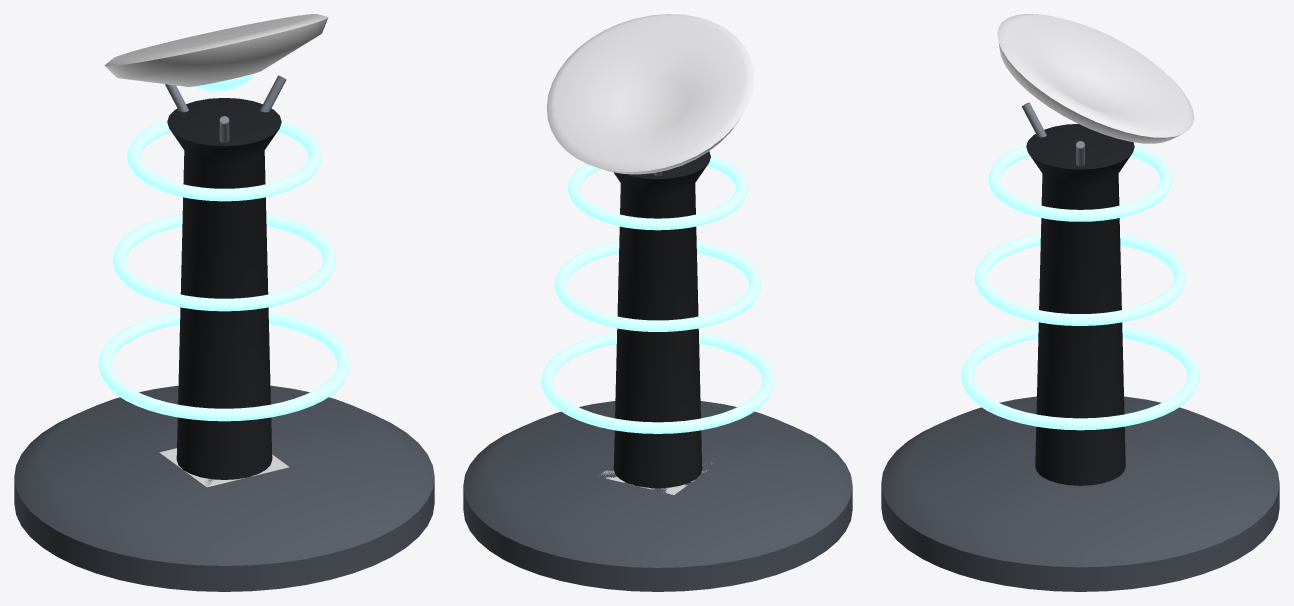
File: QuantumIrradiator.fbx
The picture shows the model from 3 angles, left to right: view 1: azimuth 30°, elevation 25°; view 2: azimuth 150°, elevation 25°; view 3: azimuth 270°, elevation 25°; orthographic projection. The views are drawn at different scales.
Parts seen in each view (by area): view 1: Body__MetalDark, Body__Black, Rings__NeonCyan, Body__White, Body__Steel, Origin__Pivot; view 2: Body__MetalDark, Body__White, Body__Black, Rings__NeonCyan; view 3: Body__MetalDark, Body__Black, Body__White, Rings__NeonCyan, Body__Steel.
Part boxes in pixels (x1,y1,x2,y2): Body__MetalDark: [14, 385, 434, 591]; Body__Black: [167, 98, 281, 479]; Rings__NeonCyan: [98, 120, 350, 421]; Body__White: [104, 14, 328, 86]; Body__Steel: [165, 75, 286, 142]; Origin__Pivot: [159, 448, 289, 487]; Body__MetalDark: [463, 401, 852, 591]; Body__White: [546, 14, 754, 174]; Body__Black: [613, 151, 710, 488]; Rings__NeonCyan: [541, 155, 774, 433]; Body__MetalDark: [881, 396, 1279, 591]; Body__Black: [1026, 124, 1134, 485]; Body__White: [997, 14, 1194, 143]; Rings__NeonCyan: [961, 145, 1199, 430]; Body__Steel: [1021, 102, 1084, 166].
Bounding box in the file's own units: 4.4 × 6.27 × 4.4.
